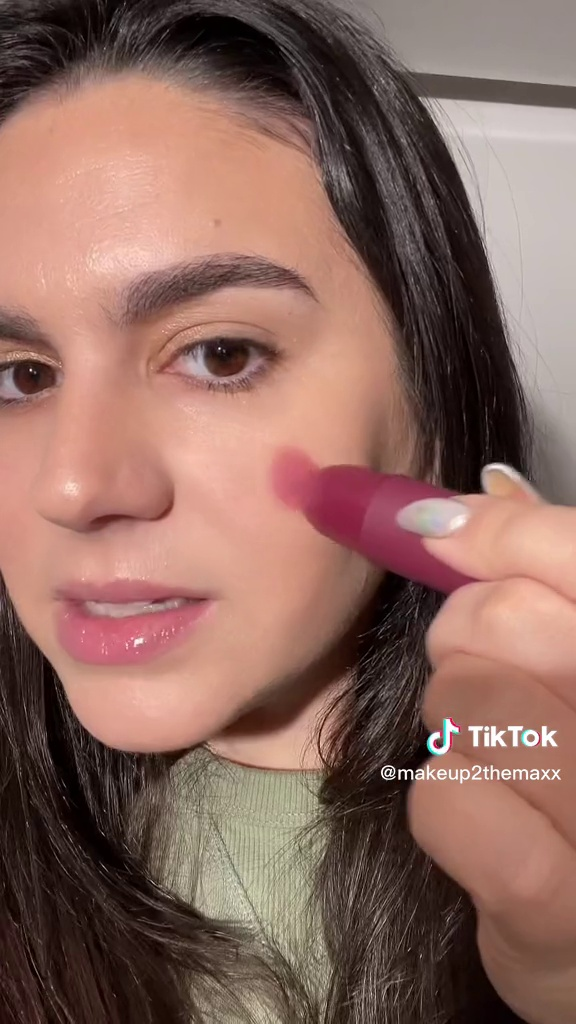train' :'yolo_data/train/images',: (278, 447, 503, 589)
